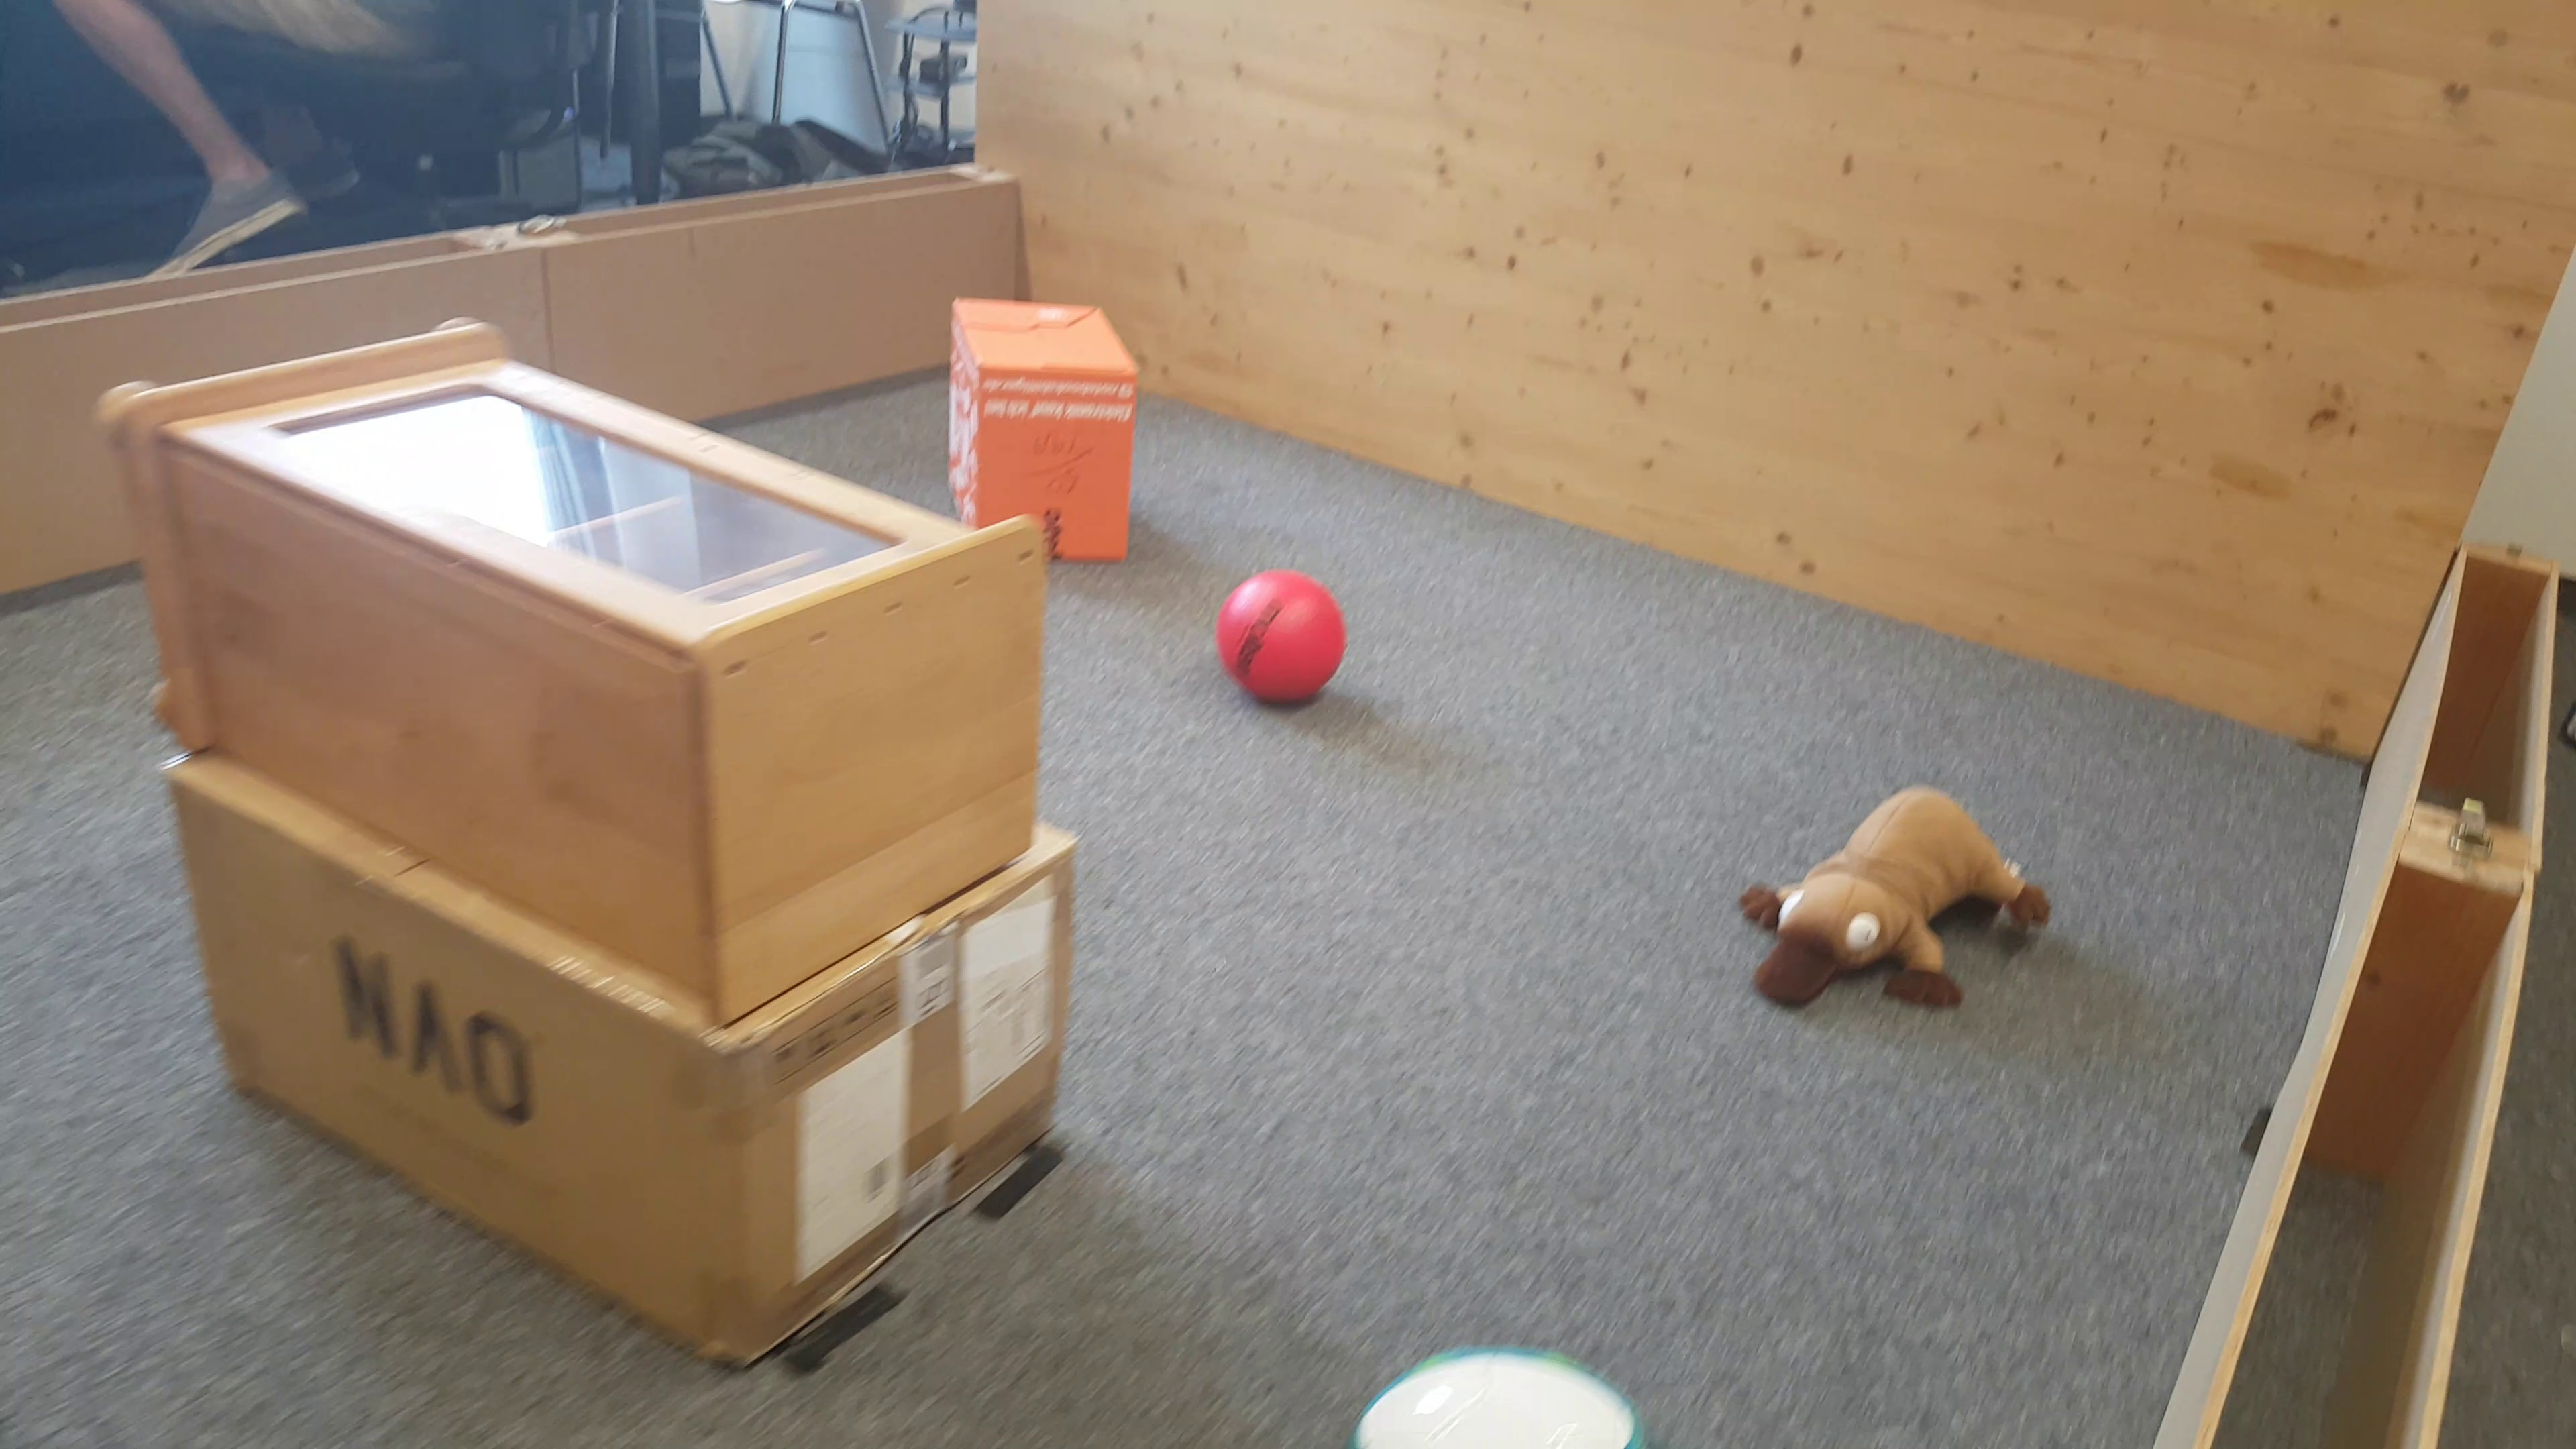grasp: (1743, 784, 2047, 1031)
kick: (1339, 1350, 1660, 1449), (1215, 566, 1352, 706)
push: (943, 299, 1141, 518)
